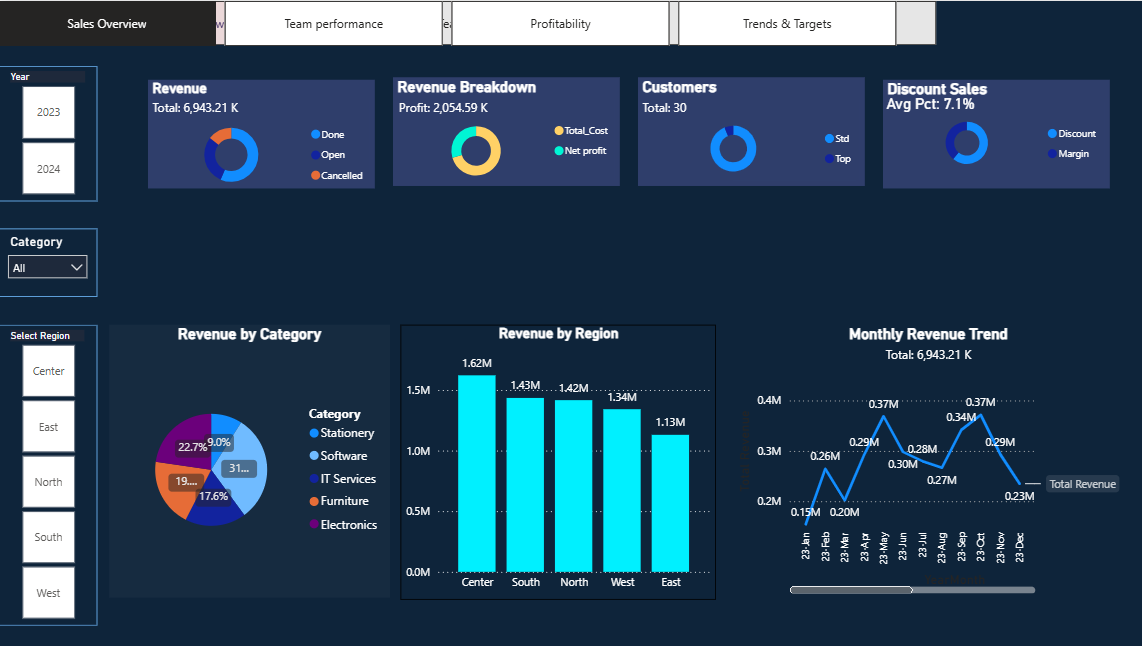

The dashboard page shown, as its layout file describes it:
{"tool":"powerbi","page":{"name":"Sales Overview","canvas":[1280,720],"ordinal":0},"visuals":[{"type":"pageNavigator","box":[44,0,1000,49.3],"z":0},{"type":"pageNavigator","box":[0,0,1000,50],"z":1000},{"type":"pageNavigator","box":[0,0,1000,50],"z":2000},{"type":"pageNavigator","box":[0,0,1000,50],"z":3000},{"type":"pageNavigator","box":[0,0,1000,50],"z":4000},{"type":"cardVisual","title":"Revenue Breakdown ","fields":{"Data":["Sales.Total profit"]},"box":[438.7,85.3,252,120.6],"z":5000},{"type":"cardVisual","title":"Customers","fields":{"Data":["Sales.Unique Customers"]},"box":[711.2,85,252,120.6],"z":6000},{"type":"cardVisual","title":"Discount Sales","fields":{"Data":["Sum(Sales.Discount_Pct)"]},"box":[982.7,88.2,252,120.6],"z":7000},{"type":"slicer","fields":{"Values":["Calendar.Year"]},"box":[0,72.4,110.6,150.6],"z":10000},{"type":"donutChart","fields":{"Y":["Sales.Total_Costs","Sum(Sales.Profit)"]},"box":[440,103.8,251.2,101.2],"z":11000},{"type":"donutChart","fields":{"Category":["Sales.Client_Segment"],"Y":["Sales.Unique Customers"]},"box":[711.4,103.8,251.2,96.2],"z":12000},{"type":"donutChart","fields":{"Category":["Sales.Transaction_Type"],"Y":["Sales.Total Revenue"]},"box":[982.1,103.8,252.4,88.1],"z":13000},{"type":"slicer","fields":{"Values":["Sales.Category"]},"box":[0,252.9,110,75.7],"z":14000},{"type":"slicer","fields":{"Values":["Sales.Region"]},"box":[0,360,110,334.3],"z":15000},{"type":"pieChart","title":"Revenue by Category","fields":{"Category":["Vanzari.Categorie"],"Y":["Sum(Vanzari.Venituri)"]},"box":[123.8,359.5,311.9,303.6],"z":16000},{"type":"clusteredColumnChart","title":"Revenue by Region","fields":{"Category":["Sales.Region"],"Y":["Sum(Vanzari.Venituri)"]},"box":[447.6,359.5,350,306],"z":17000},{"type":"lineChart","title":"Monthly Revenue Trend","fields":{"Category":["Calendar.YearMonth"],"Y":["Sales.Total Revenue"]},"box":[816.7,359.5,434.5,303.6],"z":18000},{"type":"cardVisual","title":"Revenue ","fields":{"Data":["Sales.Total Revenue"]},"box":[166,87.3,252,120.6],"z":19000},{"type":"donutChart","fields":{"Category":["Sales.Status"],"Y":["Sales.Total Revenue"]},"box":[166.7,104.2,252.5,110],"z":20000}]}

Visuals, with their boxes in screenshot pixels (x1, y1, x2, y2), scaled from the page's 1280x720 canvas onto the 1142x646 screenshot:
pageNavigator: bbox=(39, 0, 931, 44)
pageNavigator: bbox=(0, 0, 892, 45)
pageNavigator: bbox=(0, 0, 892, 45)
pageNavigator: bbox=(0, 0, 892, 45)
pageNavigator: bbox=(0, 0, 892, 45)
"Revenue Breakdown " cardVisual: bbox=(391, 77, 616, 185)
"Customers" cardVisual: bbox=(635, 76, 859, 184)
"Discount Sales" cardVisual: bbox=(877, 79, 1102, 187)
slicer - Calendar.Year: bbox=(0, 65, 99, 200)
donutChart - Sales.Total_Costs x Sum(Sales.Profit): bbox=(393, 93, 617, 184)
donutChart - Sales.Client_Segment x Sales.Unique Customers: bbox=(635, 93, 859, 179)
donutChart - Sales.Transaction_Type x Sales.Total Revenue: bbox=(876, 93, 1101, 172)
slicer - Sales.Category: bbox=(0, 227, 98, 295)
slicer - Sales.Region: bbox=(0, 323, 98, 623)
"Revenue by Category" pieChart: bbox=(110, 323, 389, 595)
"Revenue by Region" clusteredColumnChart: bbox=(399, 323, 712, 597)
"Monthly Revenue Trend" lineChart: bbox=(729, 323, 1116, 595)
"Revenue " cardVisual: bbox=(148, 78, 373, 187)
donutChart - Sales.Status x Sales.Total Revenue: bbox=(149, 93, 374, 192)
